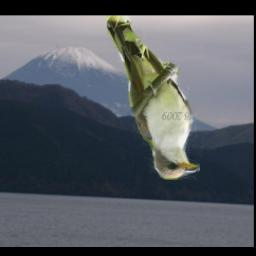Cuckoo: (107, 15, 200, 180)
